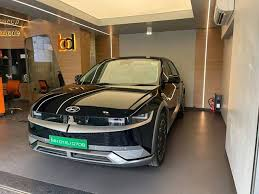Honda Ioniq: (26, 50, 188, 175)
